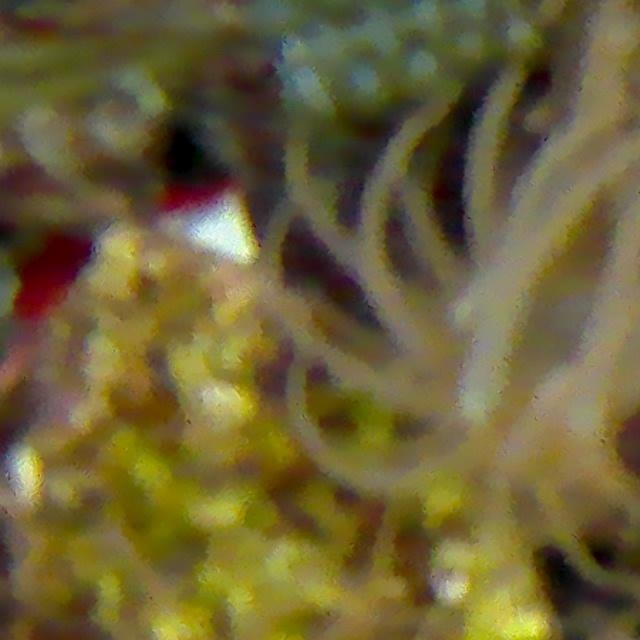SeaGrape: (341, 59, 394, 114), (397, 46, 445, 98), (250, 0, 306, 36), (498, 17, 542, 57), (449, 30, 493, 69), (407, 0, 449, 40)
